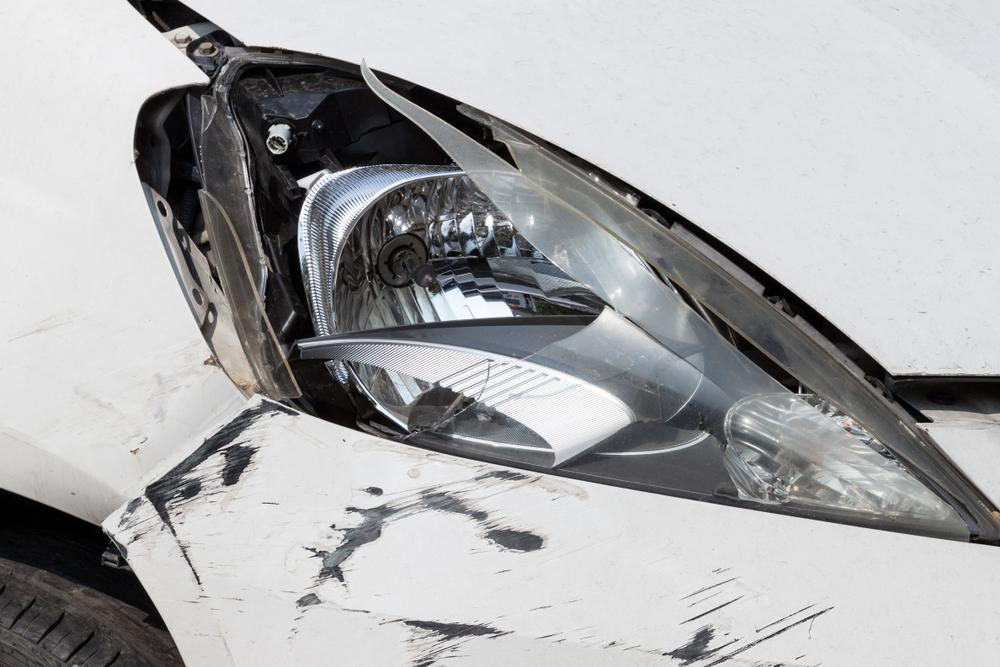lamp broken: (210, 50, 1000, 548)
scratch: (103, 396, 838, 667)
